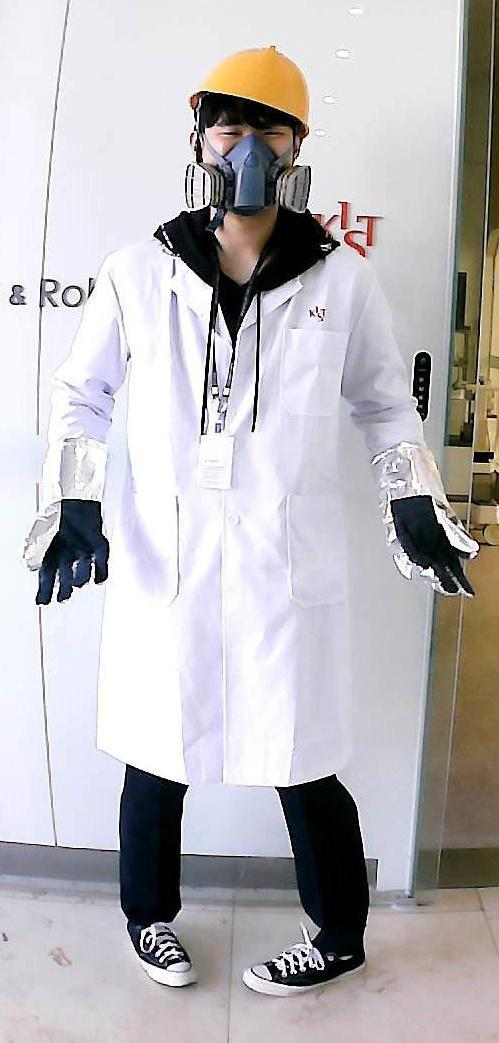lab_coat: (99, 254, 362, 778)
